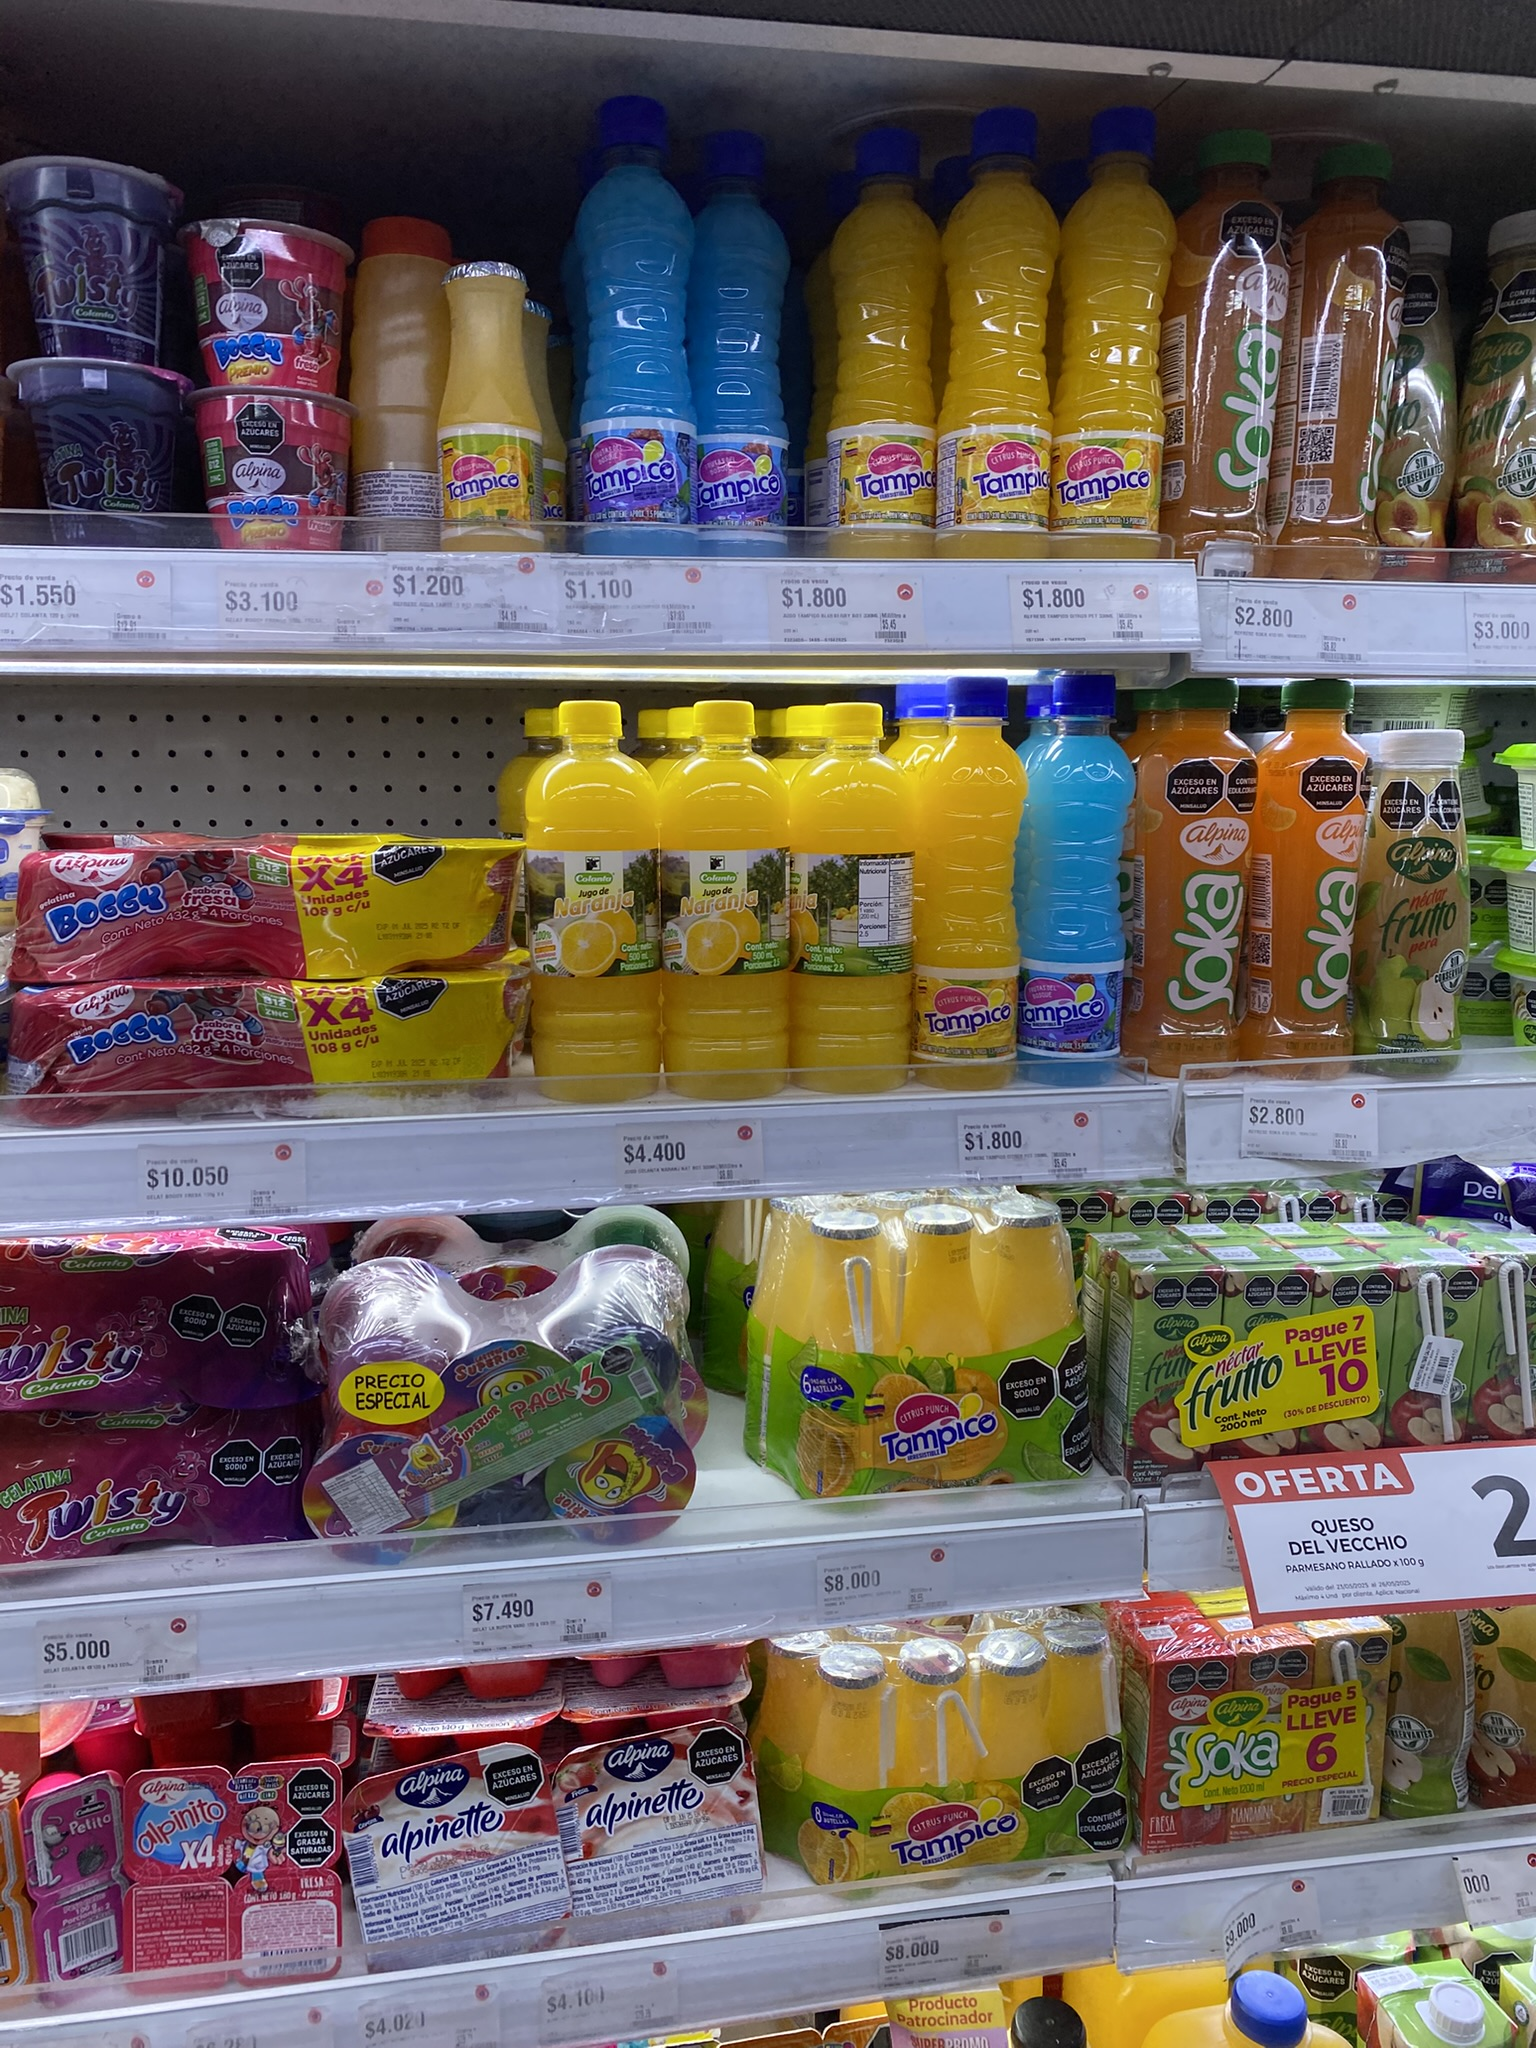Jugo de Naranja: (532, 697, 657, 1101), (668, 693, 792, 1097), (795, 710, 912, 1089)
